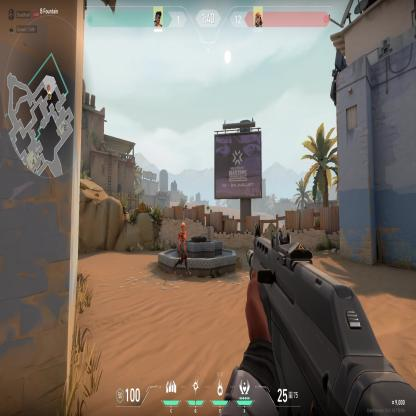enemy: (171, 221, 191, 277)
